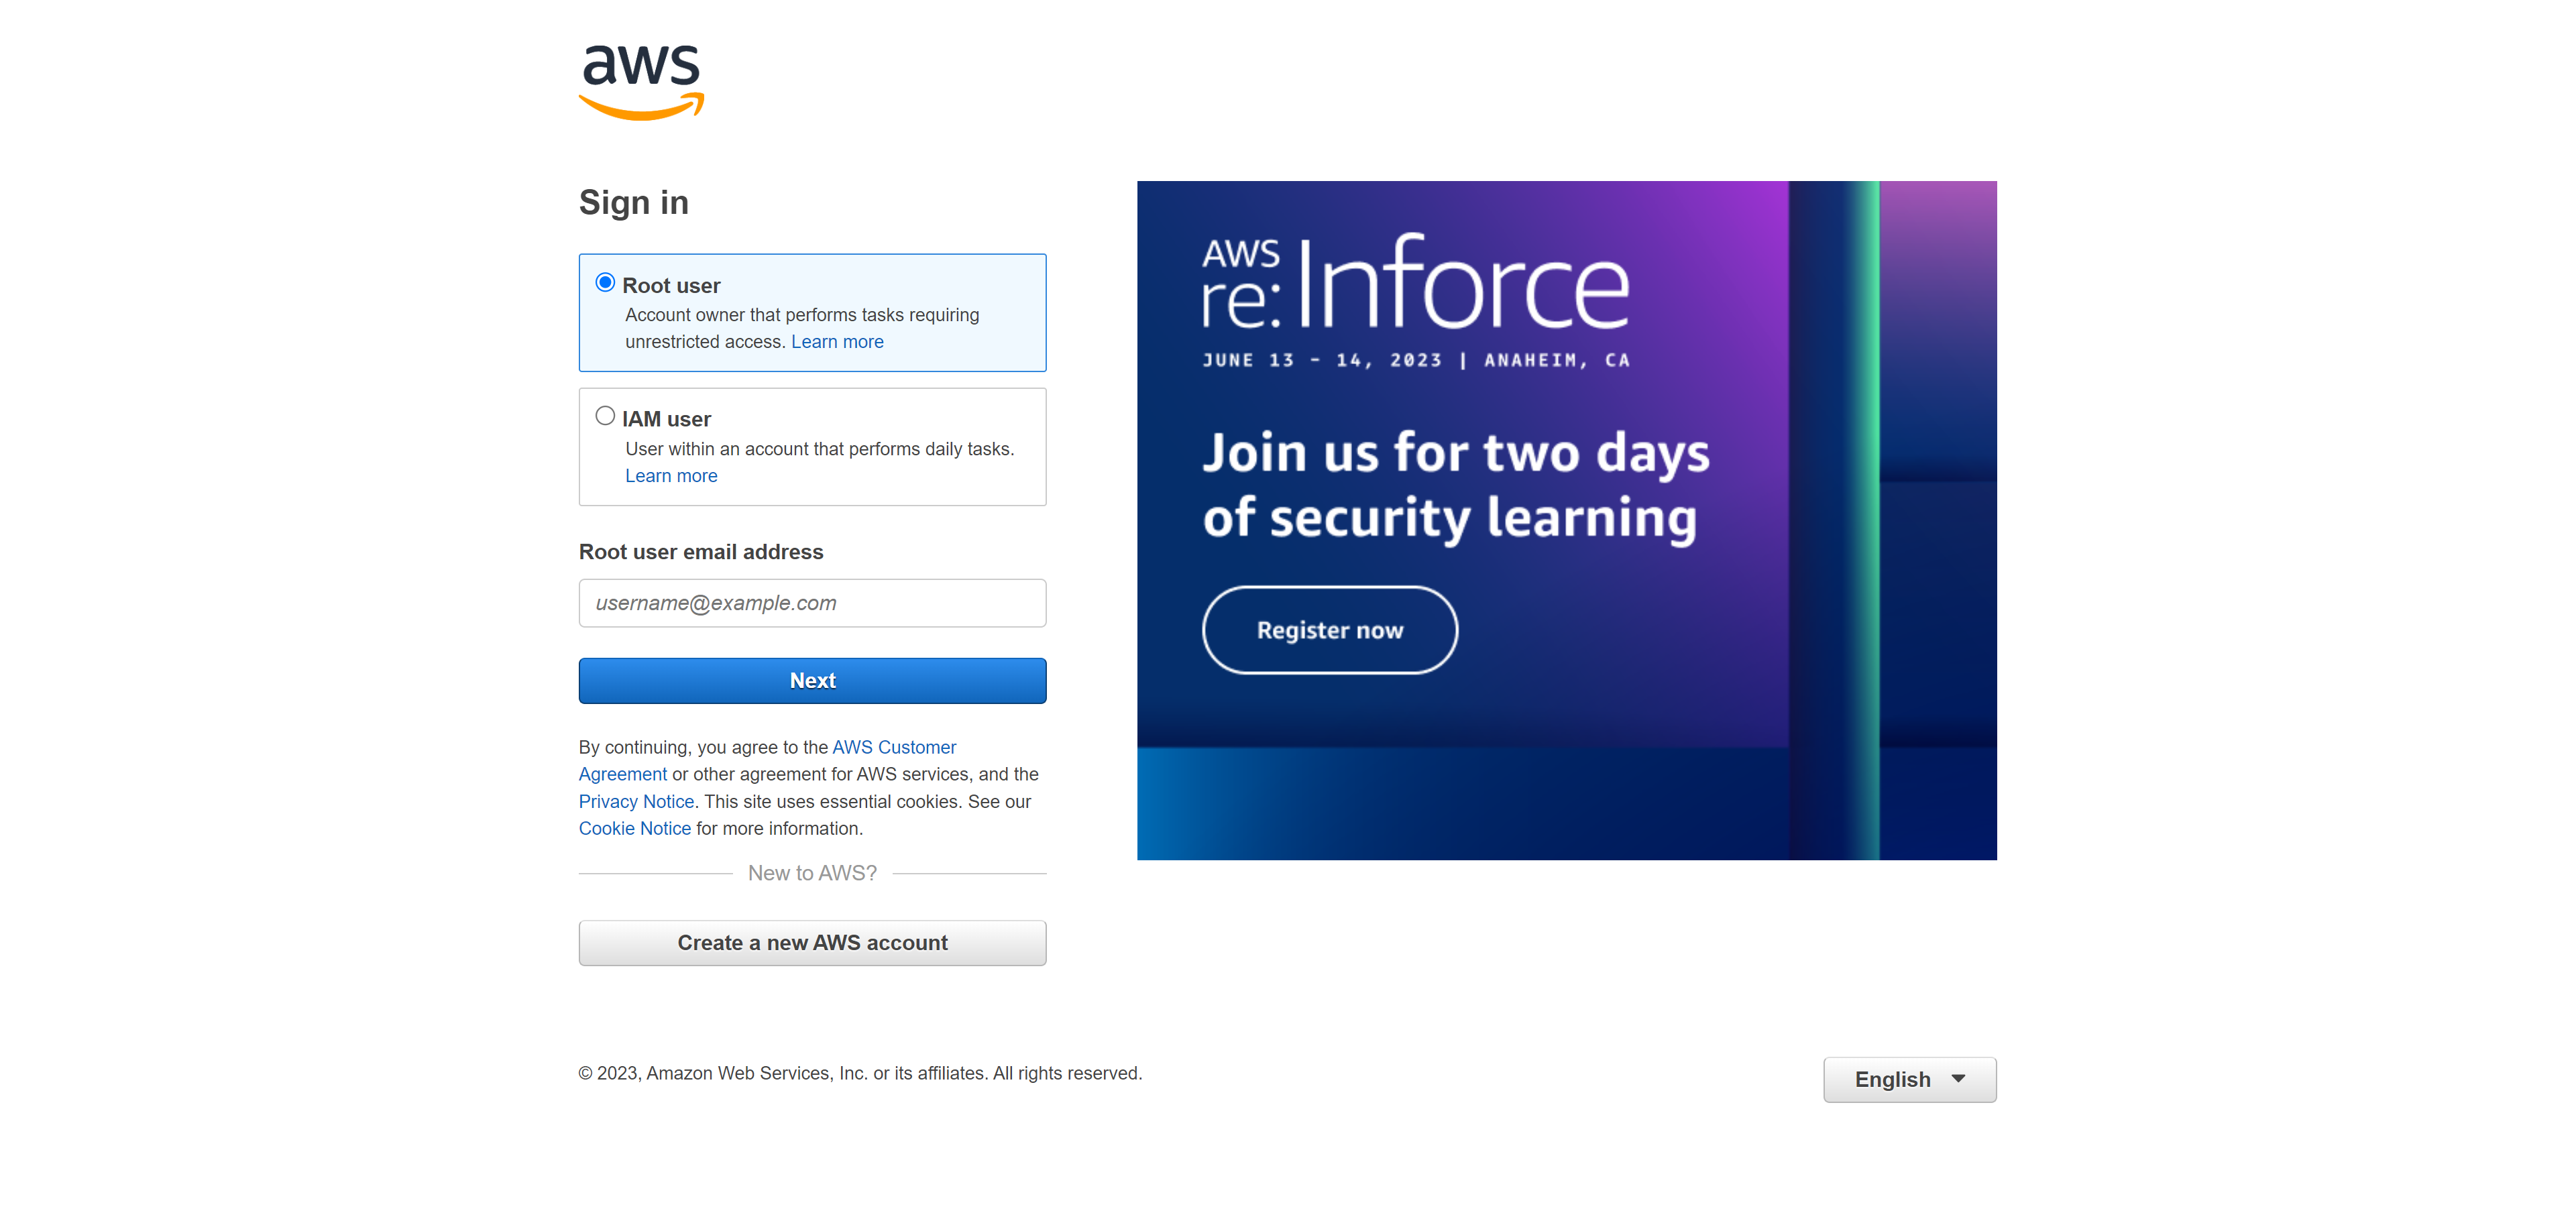login_button: (578, 659, 1046, 703)
login_form: (572, 537, 1055, 712)
